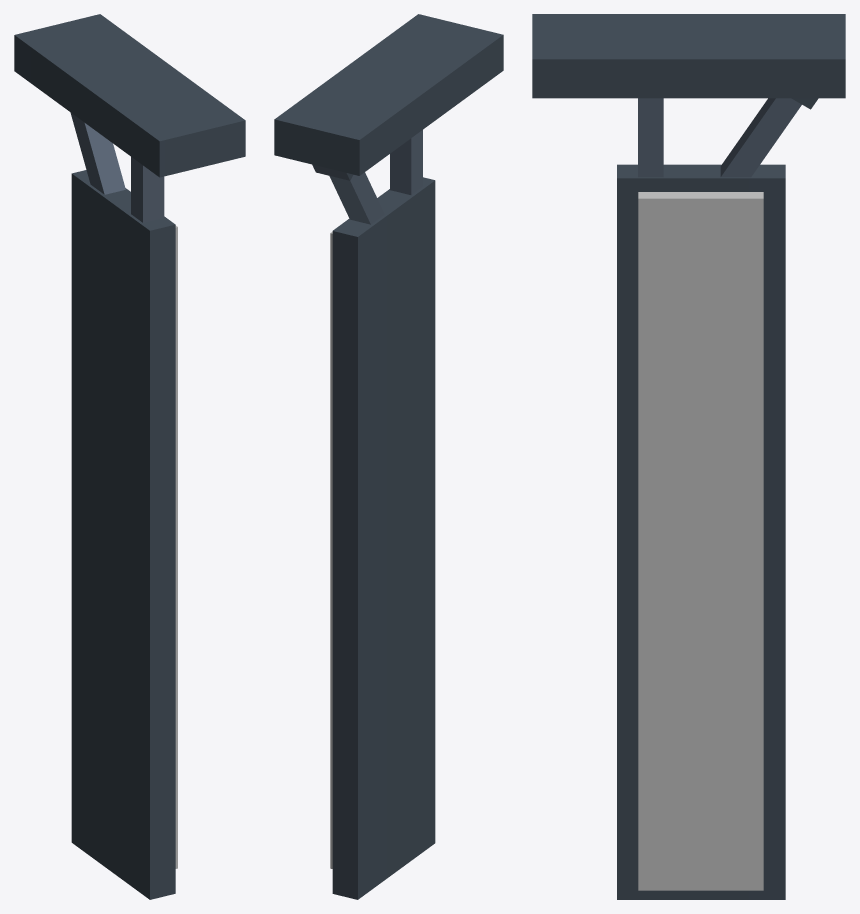
File: SignProp_1_A_6.fbx
3 renders of one model, left to right at view 1: azimuth 30°, elevation 25°; view 2: azimuth 150°, elevation 25°; view 3: azimuth 270°, elevation 25°, orthographic. The views are drawn at different scales.
Visible parts, largest first — view 1: SignProp_1_A_6; view 2: SignProp_1_A_6; view 3: SignProp_1_A_6.
Boxes of the visible parts, x1,y1,x2,y2 form: SignProp_1_A_6: (14,14,245,899); SignProp_1_A_6: (274,14,503,899); SignProp_1_A_6: (532,14,845,899).
Bounding box in the file's own units: 20.79 × 184 × 60.95.
